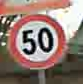limite 50: (7, 12, 66, 70)
